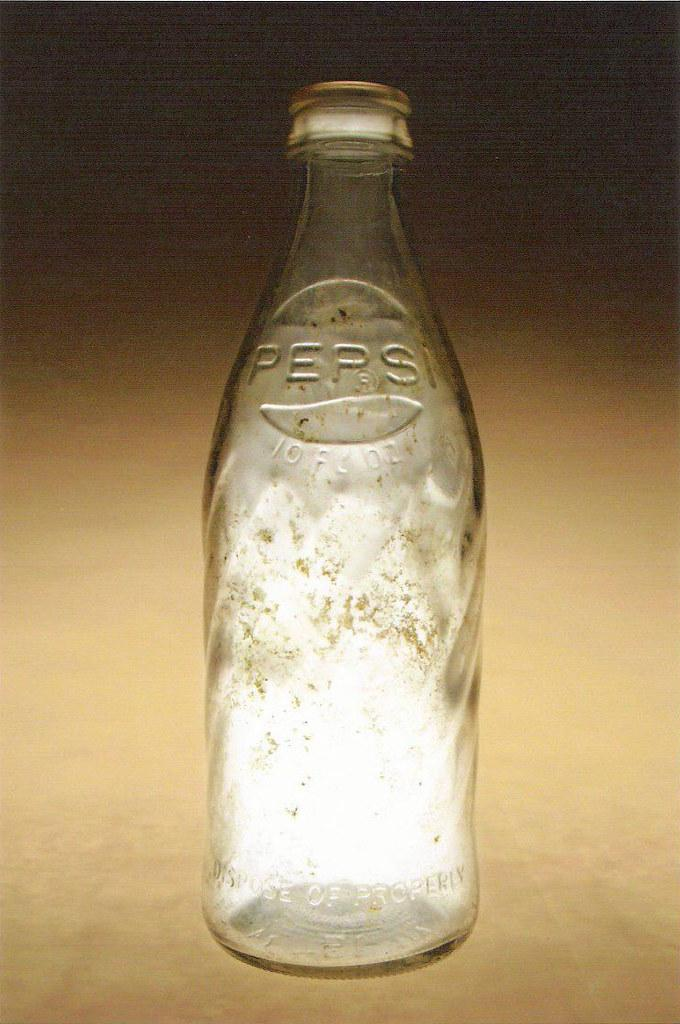bottle: (201, 80, 488, 976)
